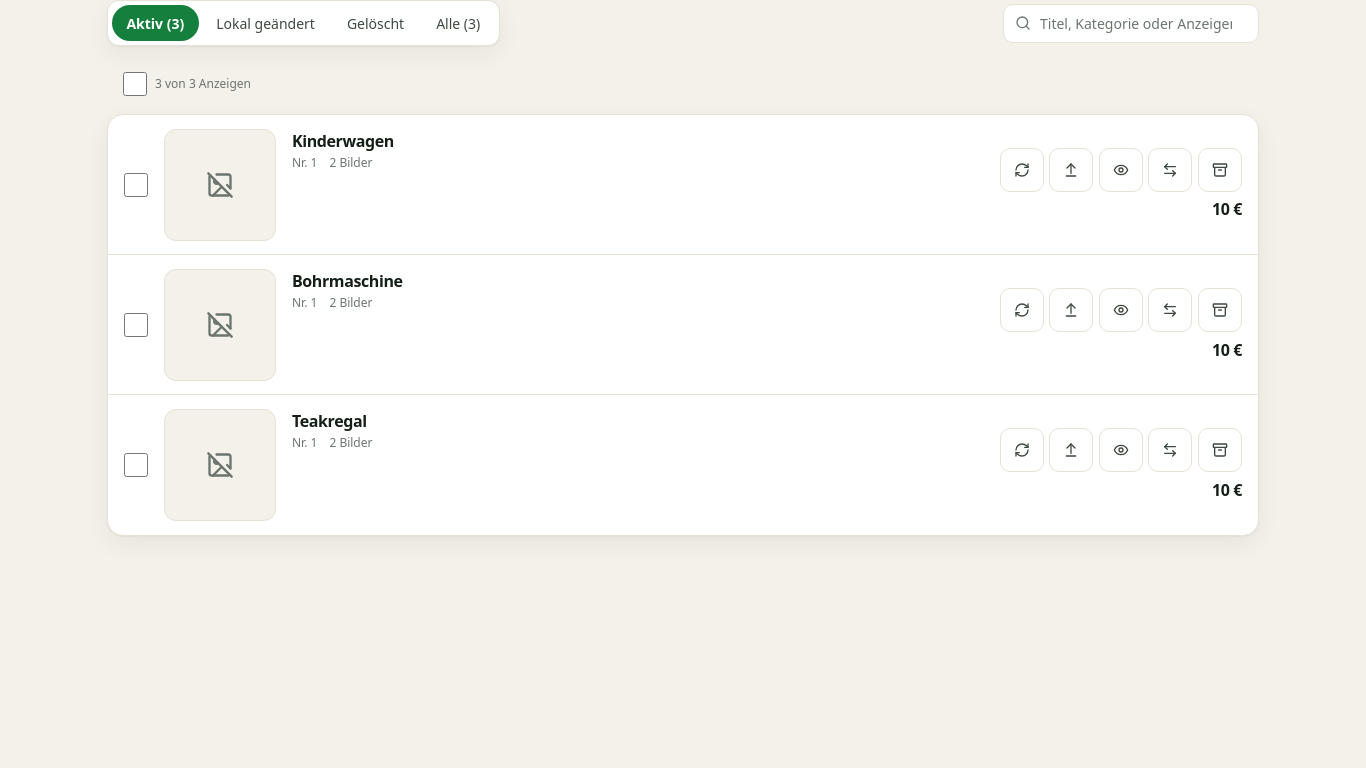
Test: Löschen › liest die Liste neu und meldet das Ergebnis
The width and height of the screenshot is (1366, 768).
Expected: the text "Kinderwagen" is shown, top-left (292, 130), bottom-right (394, 152)
What coordinates should you click on to do the following:
click the checkbox named "„Kinderwagen\" auswählen"
I would click on:
 (136, 185)
Its box is top-left (124, 173), bottom-right (148, 197).
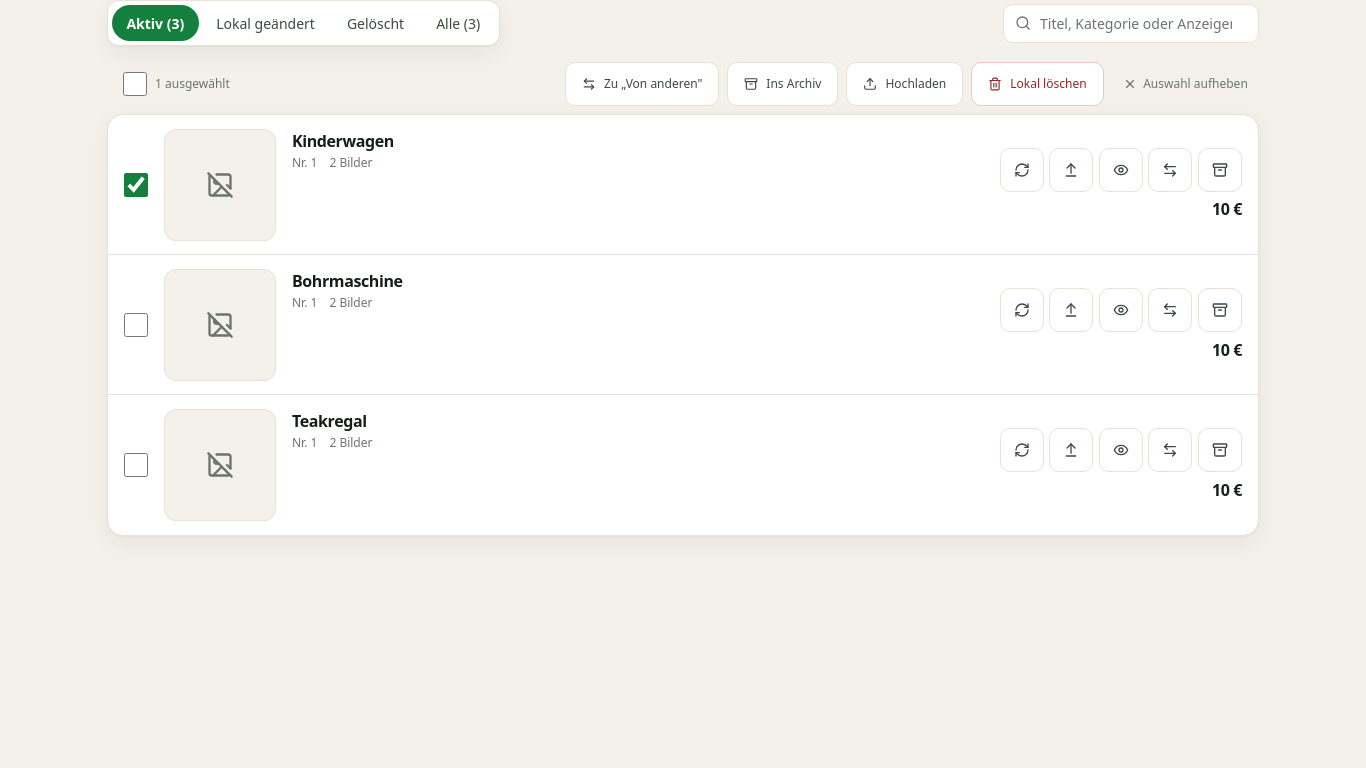
What coordinates should you click on to do the following:
click the checkbox named "„Bohrmaschine\" auswählen"
I would click on:
 (136, 325)
Its box is top-left (124, 313), bottom-right (148, 337).
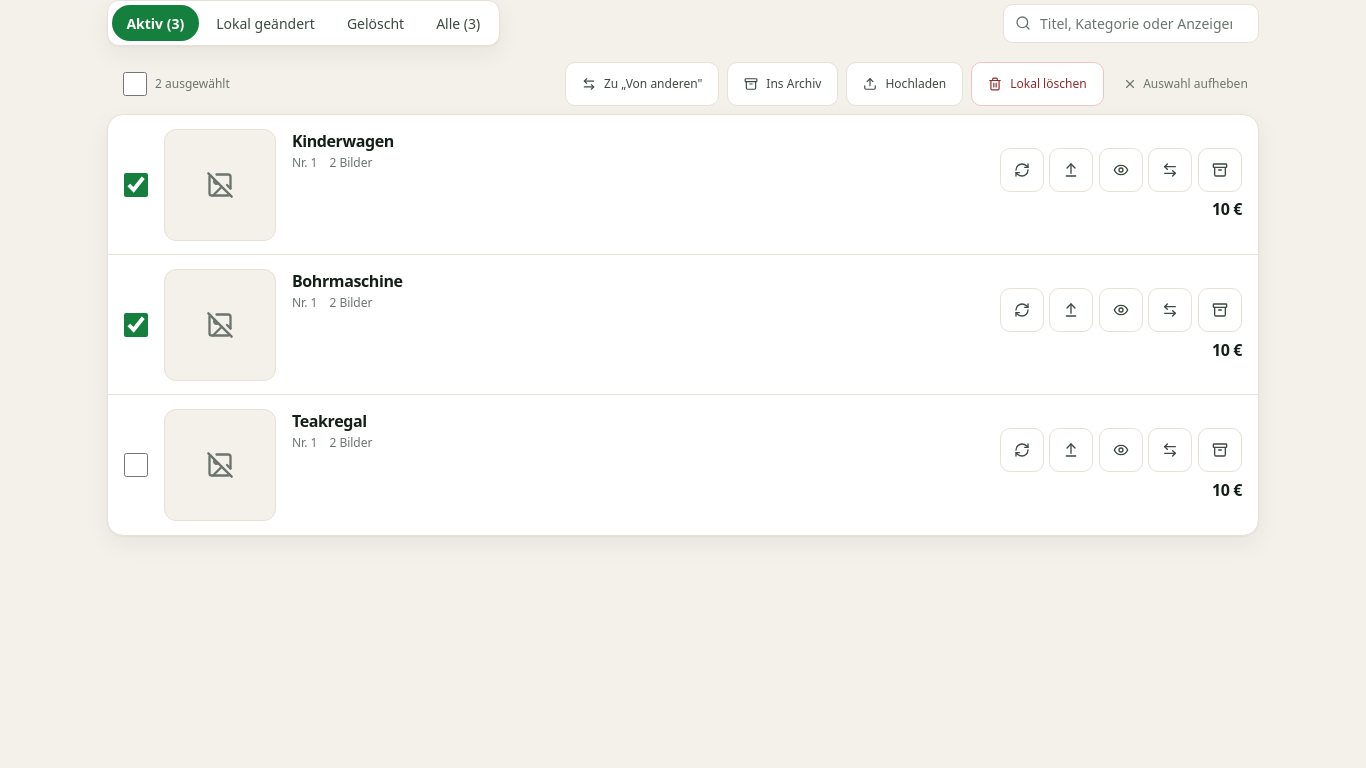
What coordinates should you click on to do the following:
click the button "Lokal löschen"
I would click on:
 (1037, 84)
Its box is top-left (971, 62), bottom-right (1104, 106).
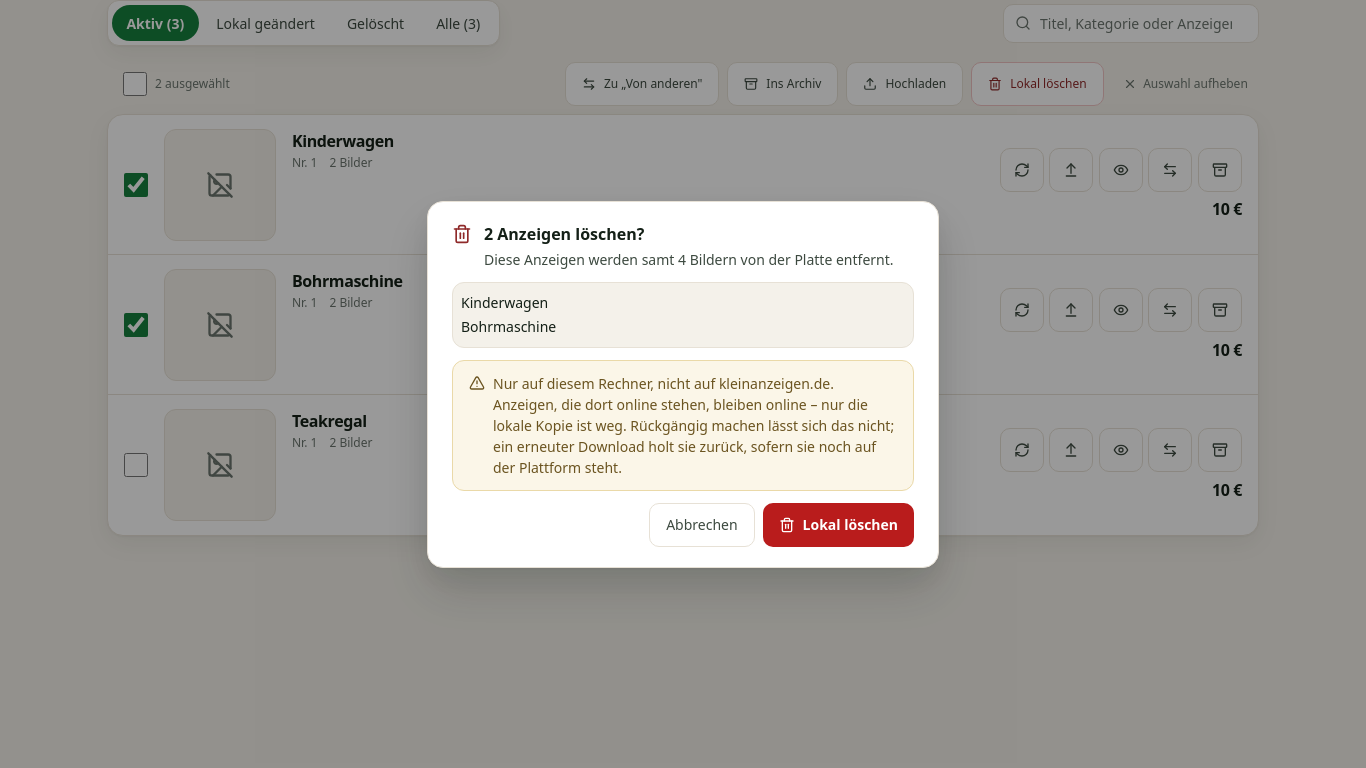
What coordinates should you click on to do the following:
click the button "Lokal löschen"
I would click on:
 (838, 524)
Its box is top-left (763, 502), bottom-right (914, 546).
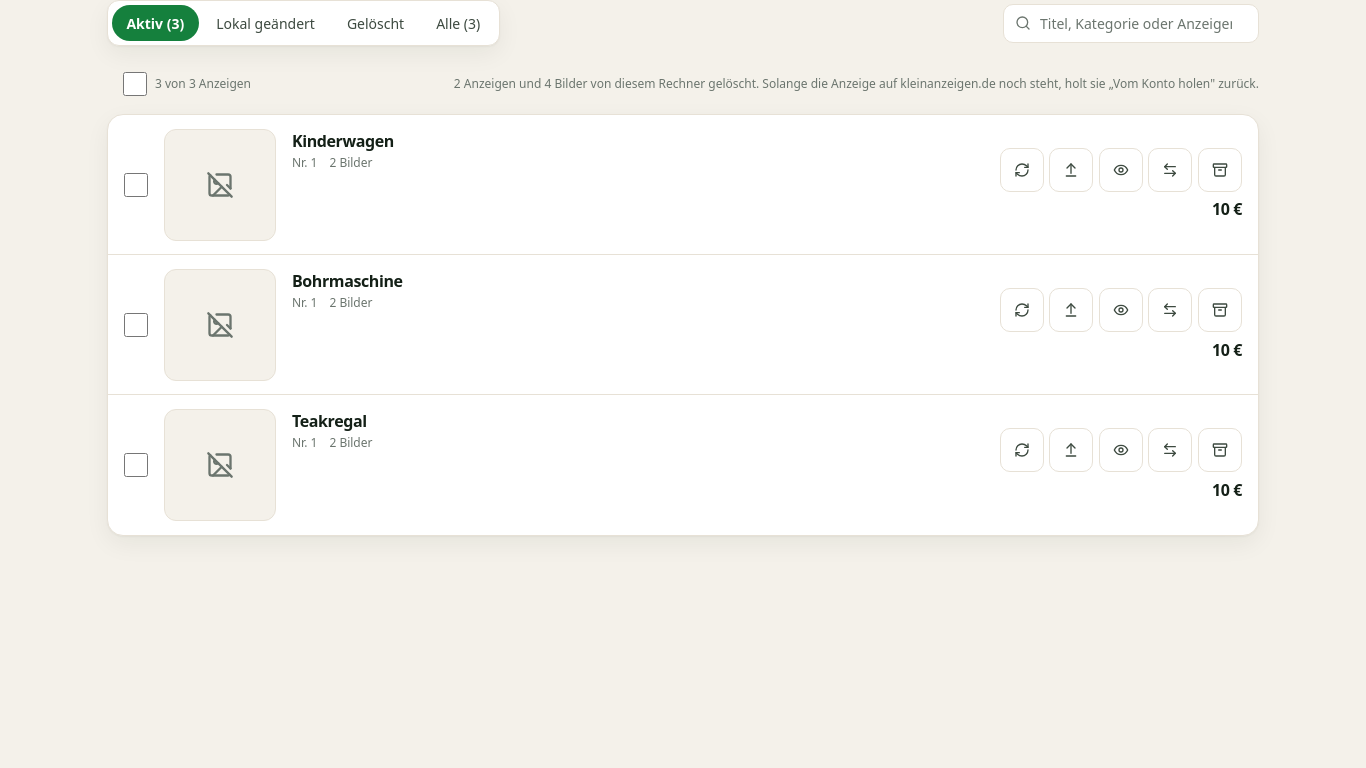
Expected: the text "2 Anzeigen und 4 Bilder von diesem Rechner gelöscht" is shown, top-left (454, 75), bottom-right (1259, 92)
